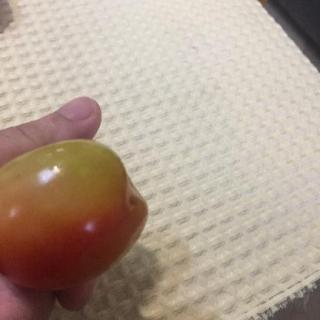Tomat: (1, 123, 163, 297)
